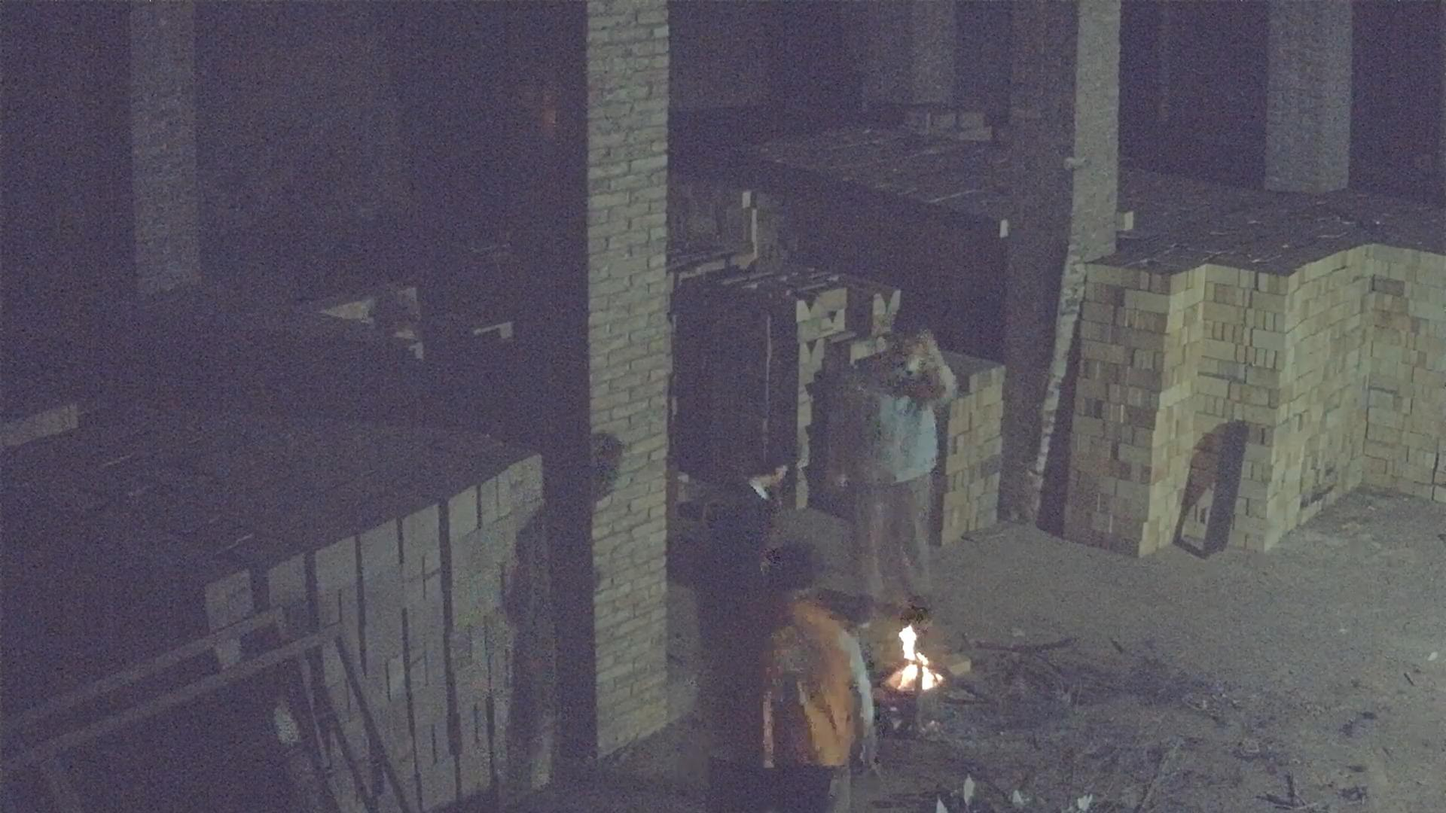fire: (886, 626, 941, 690)
